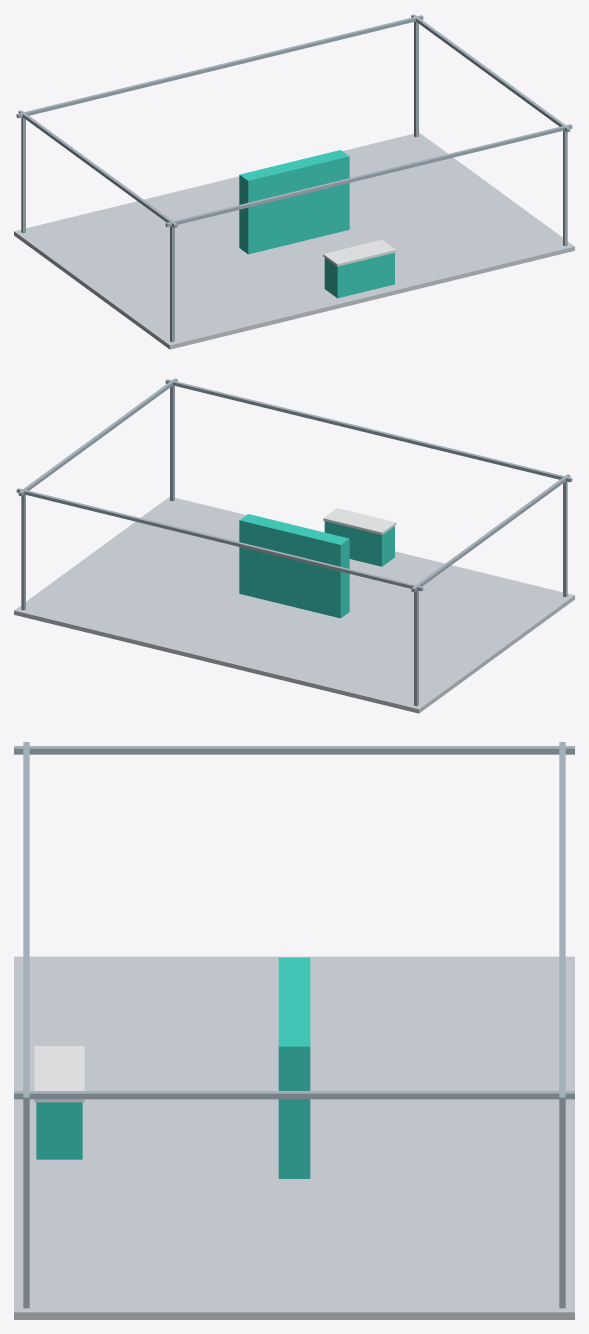
3 renders of one model, top to bottom at view 1: azimuth 30°, elevation 25°; view 2: azimuth 150°, elevation 25°; view 3: azimuth 270°, elevation 25°, orthographic. The views are drawn at different scales.
Visible parts, largest first — view 1: Exhibition Booth Concept; view 2: Exhibition Booth Concept; view 3: Exhibition Booth Concept.
Part boxes in pixels (box(x1,y1,x2,y2)): Exhibition Booth Concept: box(14, 14, 574, 349); Exhibition Booth Concept: box(14, 378, 574, 713); Exhibition Booth Concept: box(14, 742, 574, 1319).
Size of the model in its own units: 12 by 3.49 by 8.
